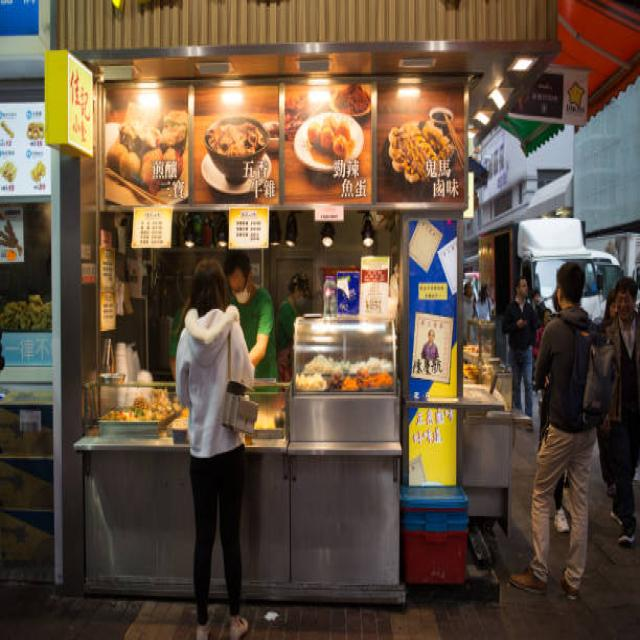Emperan: (55, 39, 480, 601)
